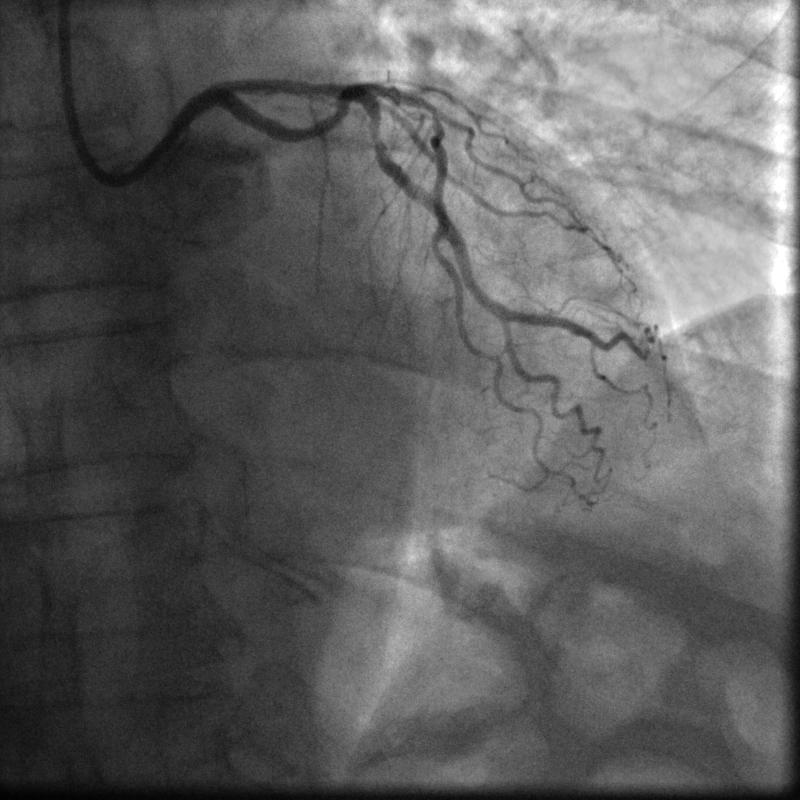Stenosis: (370, 128, 382, 148)
